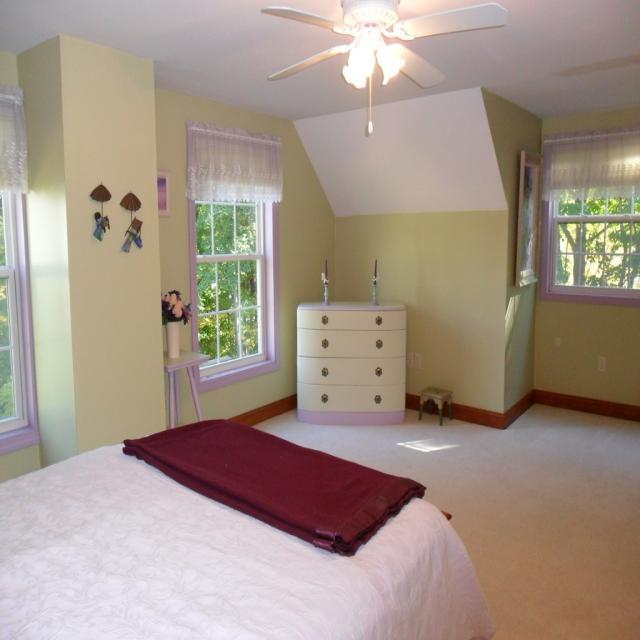fan_off: (256, 0, 511, 88)
